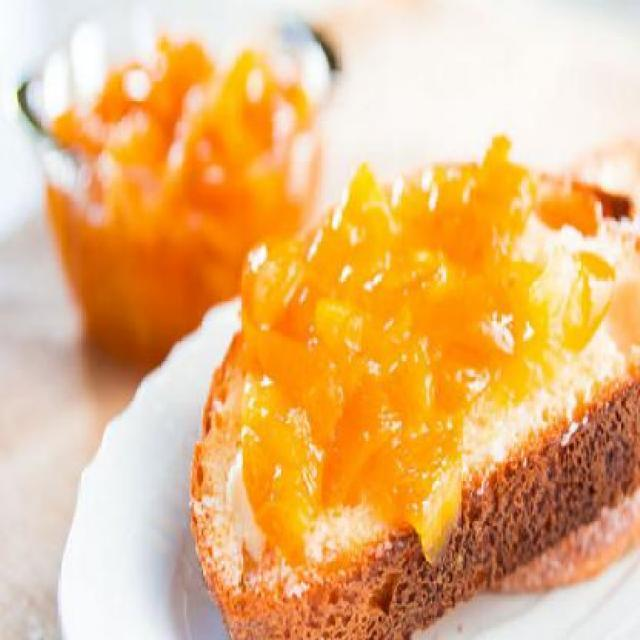Spread: (223, 133, 617, 524)
